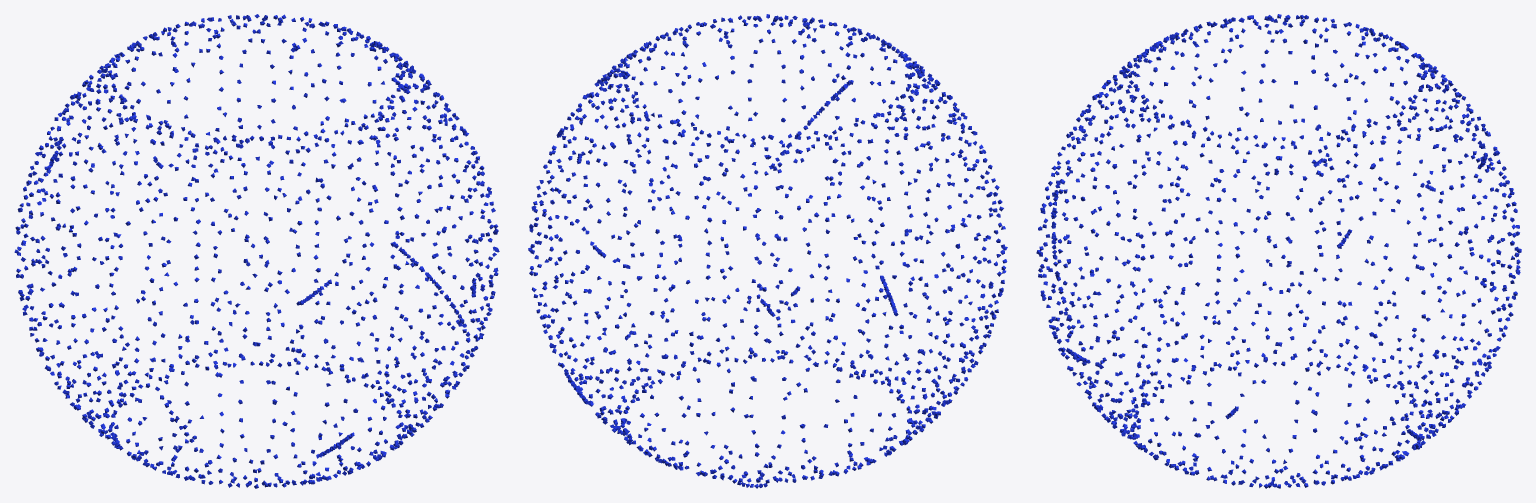
File: starlink.gltf
3 renders of one model, left to right at view 1: azimuth 30°, elevation 25°; view 2: azimuth 150°, elevation 25°; view 3: azimuth 270°, elevation 25°, orthographic.
Parts seen in each view (by area): view 1: starlink; view 2: starlink; view 3: starlink.
Part boxes in pixels (x1,y1,x2,y2): starlink: [14, 14, 499, 488]; starlink: [528, 14, 1007, 488]; starlink: [1036, 14, 1521, 488].
Size of the model in its own units: 0.3646 by 0.32 by 0.3651.
